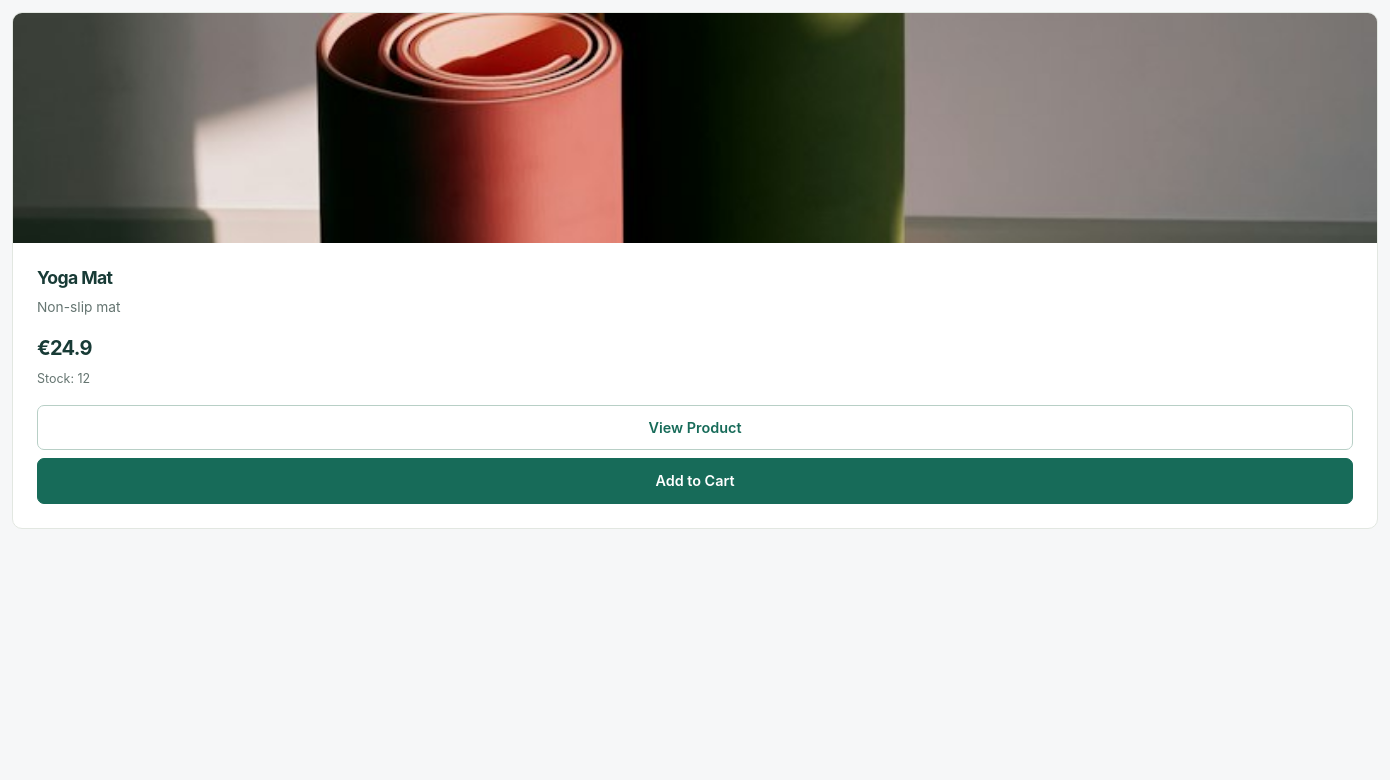
Test case: ProductCard › shows the server's message when adding fails (e.g. not enough stock)
Click the button "Add to Cart" at (695, 481), box [37, 458, 1353, 504]
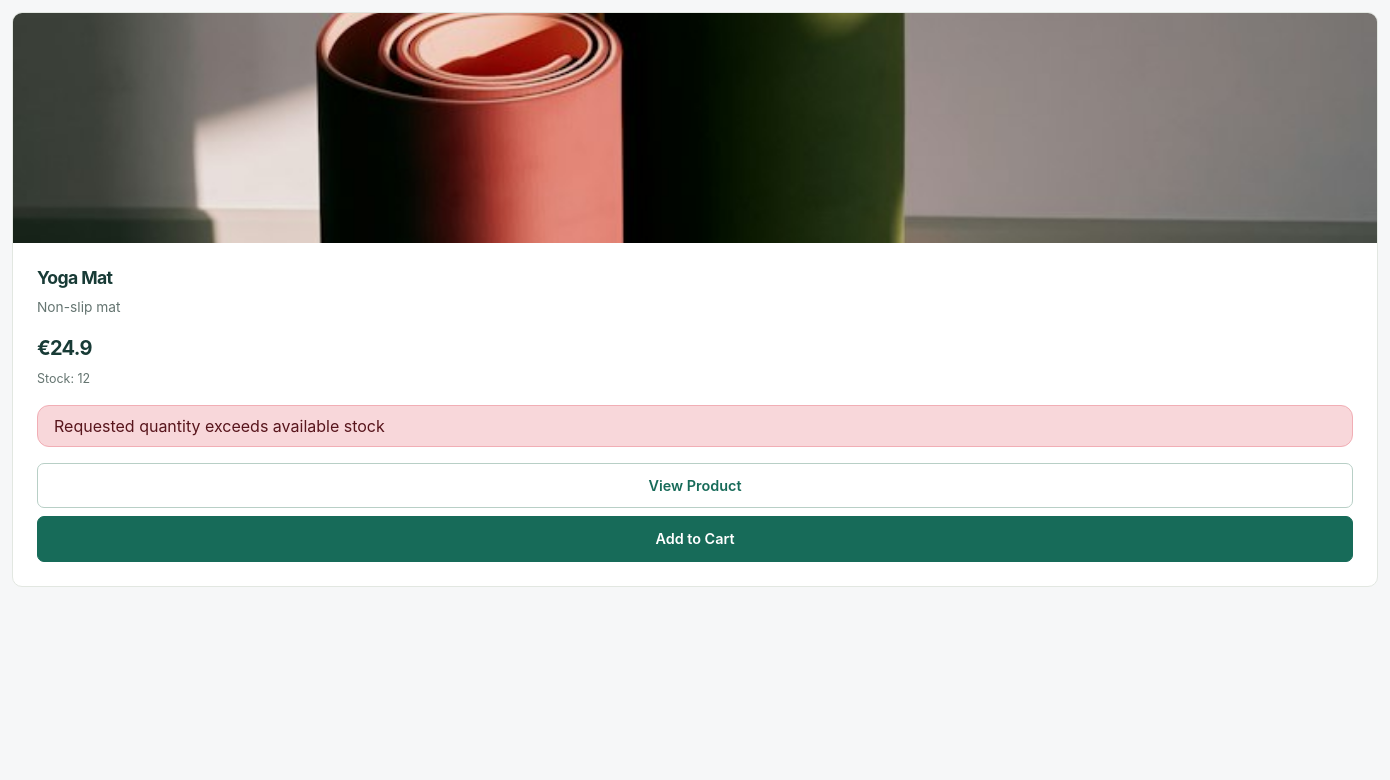
Expected: the text "Requested quantity exceeds available stock" is shown, [37, 405, 1353, 447]
